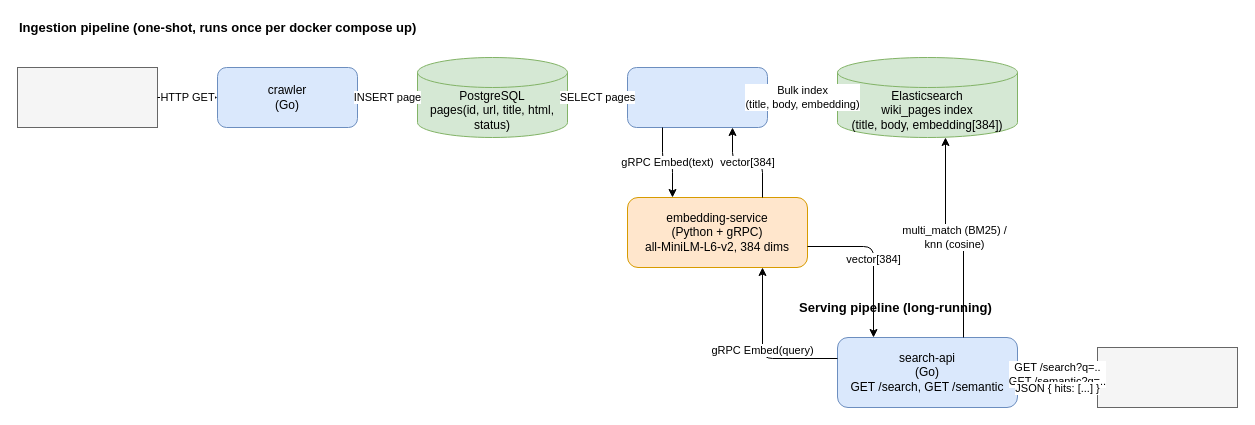
Image size: 1255x425. Some labels were removed from this diagram. The shapes that lost their labels are listed below. From the top down, each one's centre as x and y in pixels, then its label:
At point (87, 97): "Wikipedia (en.wikipedia.org)".
At point (697, 97): "indexer (Go)".
At point (1167, 377): "client (curl / browser)".
